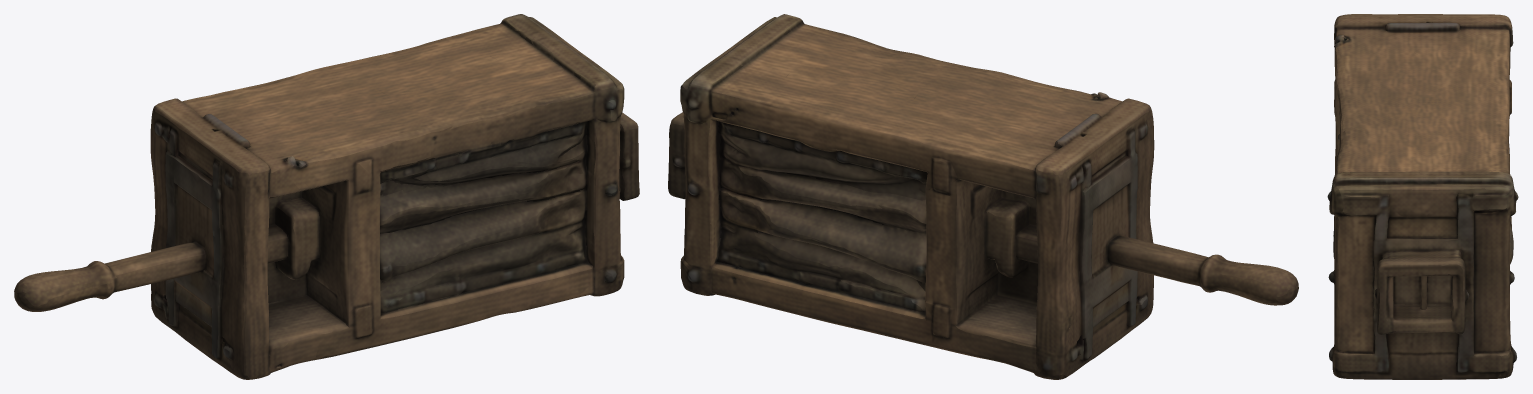
Rendered from bellows.glb.
3 renders of one model, left to right at view 1: azimuth 30°, elevation 25°; view 2: azimuth 150°, elevation 25°; view 3: azimuth 270°, elevation 25°, orthographic. The views are drawn at different scales.
Parts seen in each view (by area): view 1: world; view 2: world; view 3: world.
Boxes of the visible parts, x1=… form: world: x1=14, y1=14, x2=639, y2=379; world: x1=668, y1=14, x2=1298, y2=379; world: x1=1327, y1=14, x2=1518, y2=379.
Bounding box in the file's own units: 0.45 × 0.1546 × 0.1335.
Materials: 1 (1 with a texture image).
